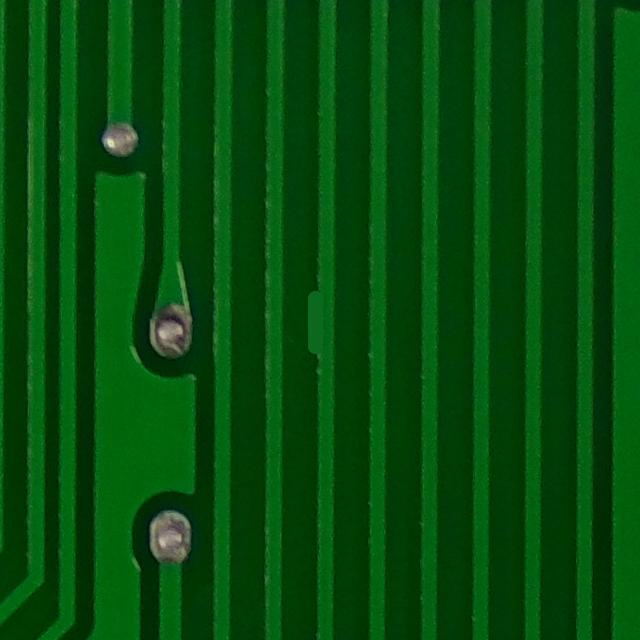spur: (285, 267, 356, 374)
